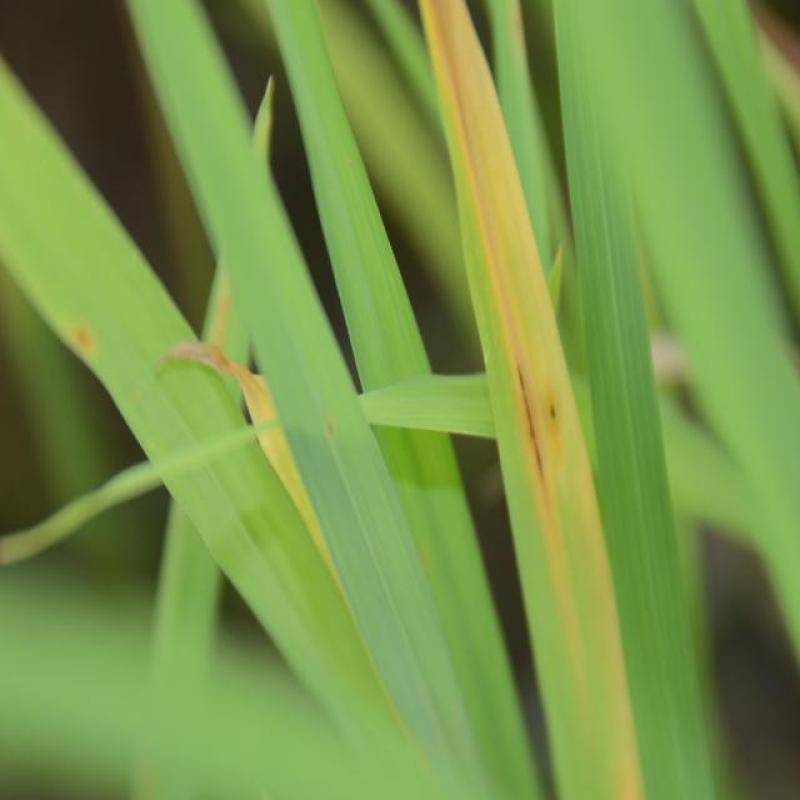Rice Tungro: (421, 11, 634, 778)
